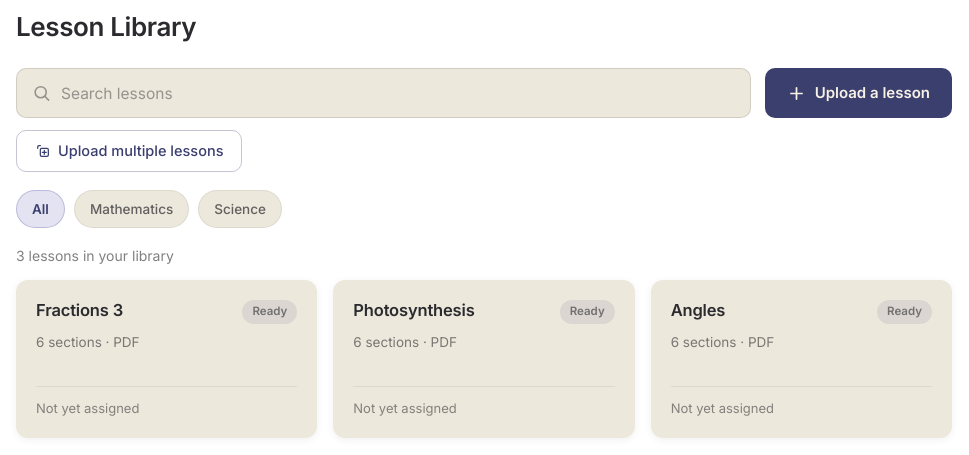
the result line › names the search, and the subject with it
Click the button "Mathematics": (132, 209) x1=74 y1=190 x2=189 y2=228
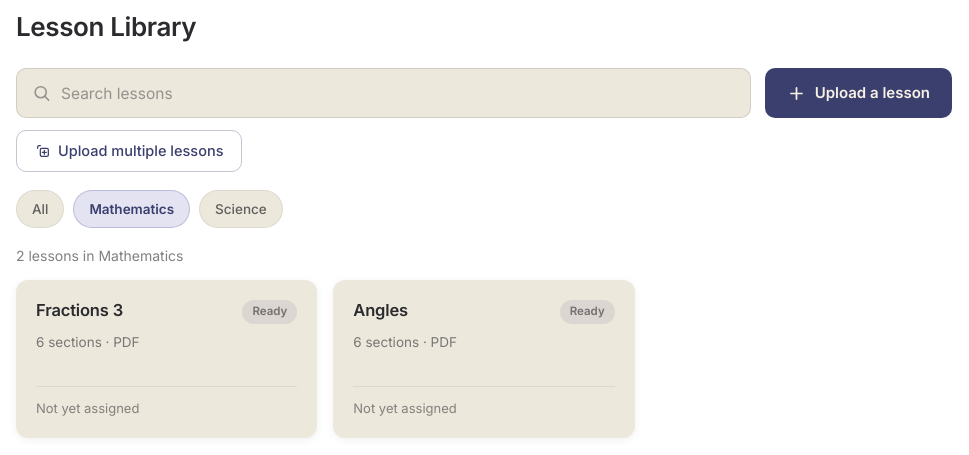
In the field labelled "Search lessons": (383, 93) x1=16 y1=68 x2=751 y2=118, type "angle"
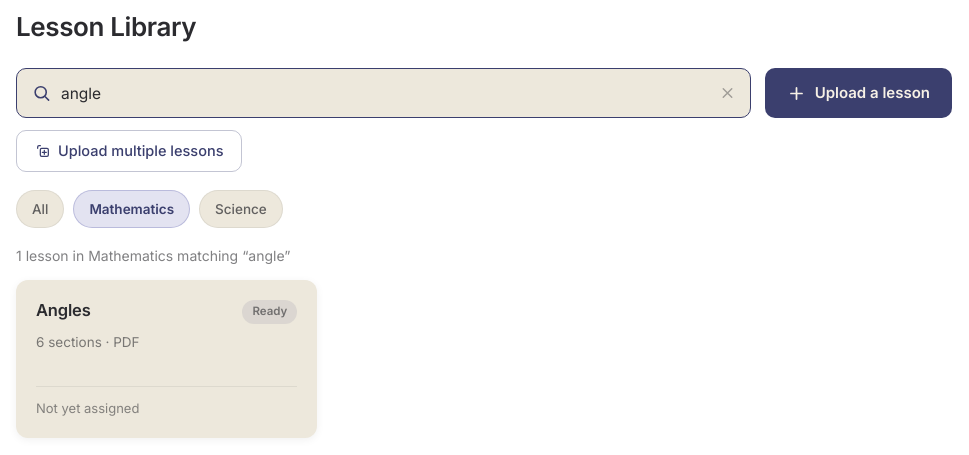
Check: the text "1 lesson in Mathematics matching “angle”" is shown, box x1=16 y1=247 x2=290 y2=264
